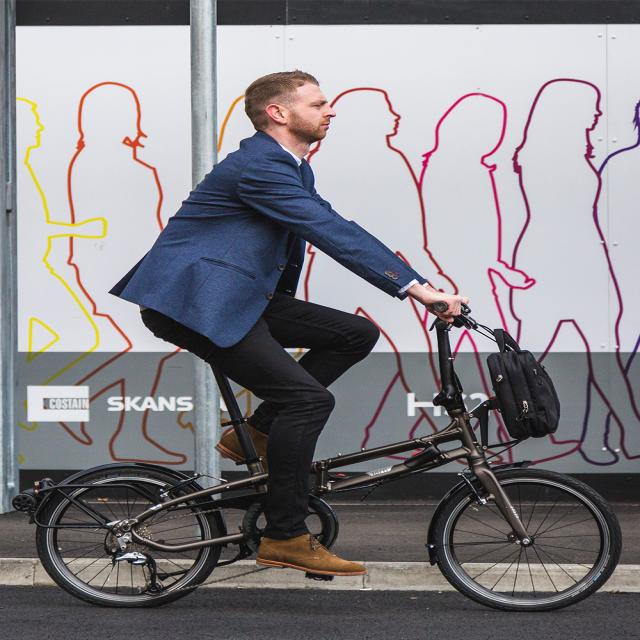folding-bike: (38, 296, 624, 616)
